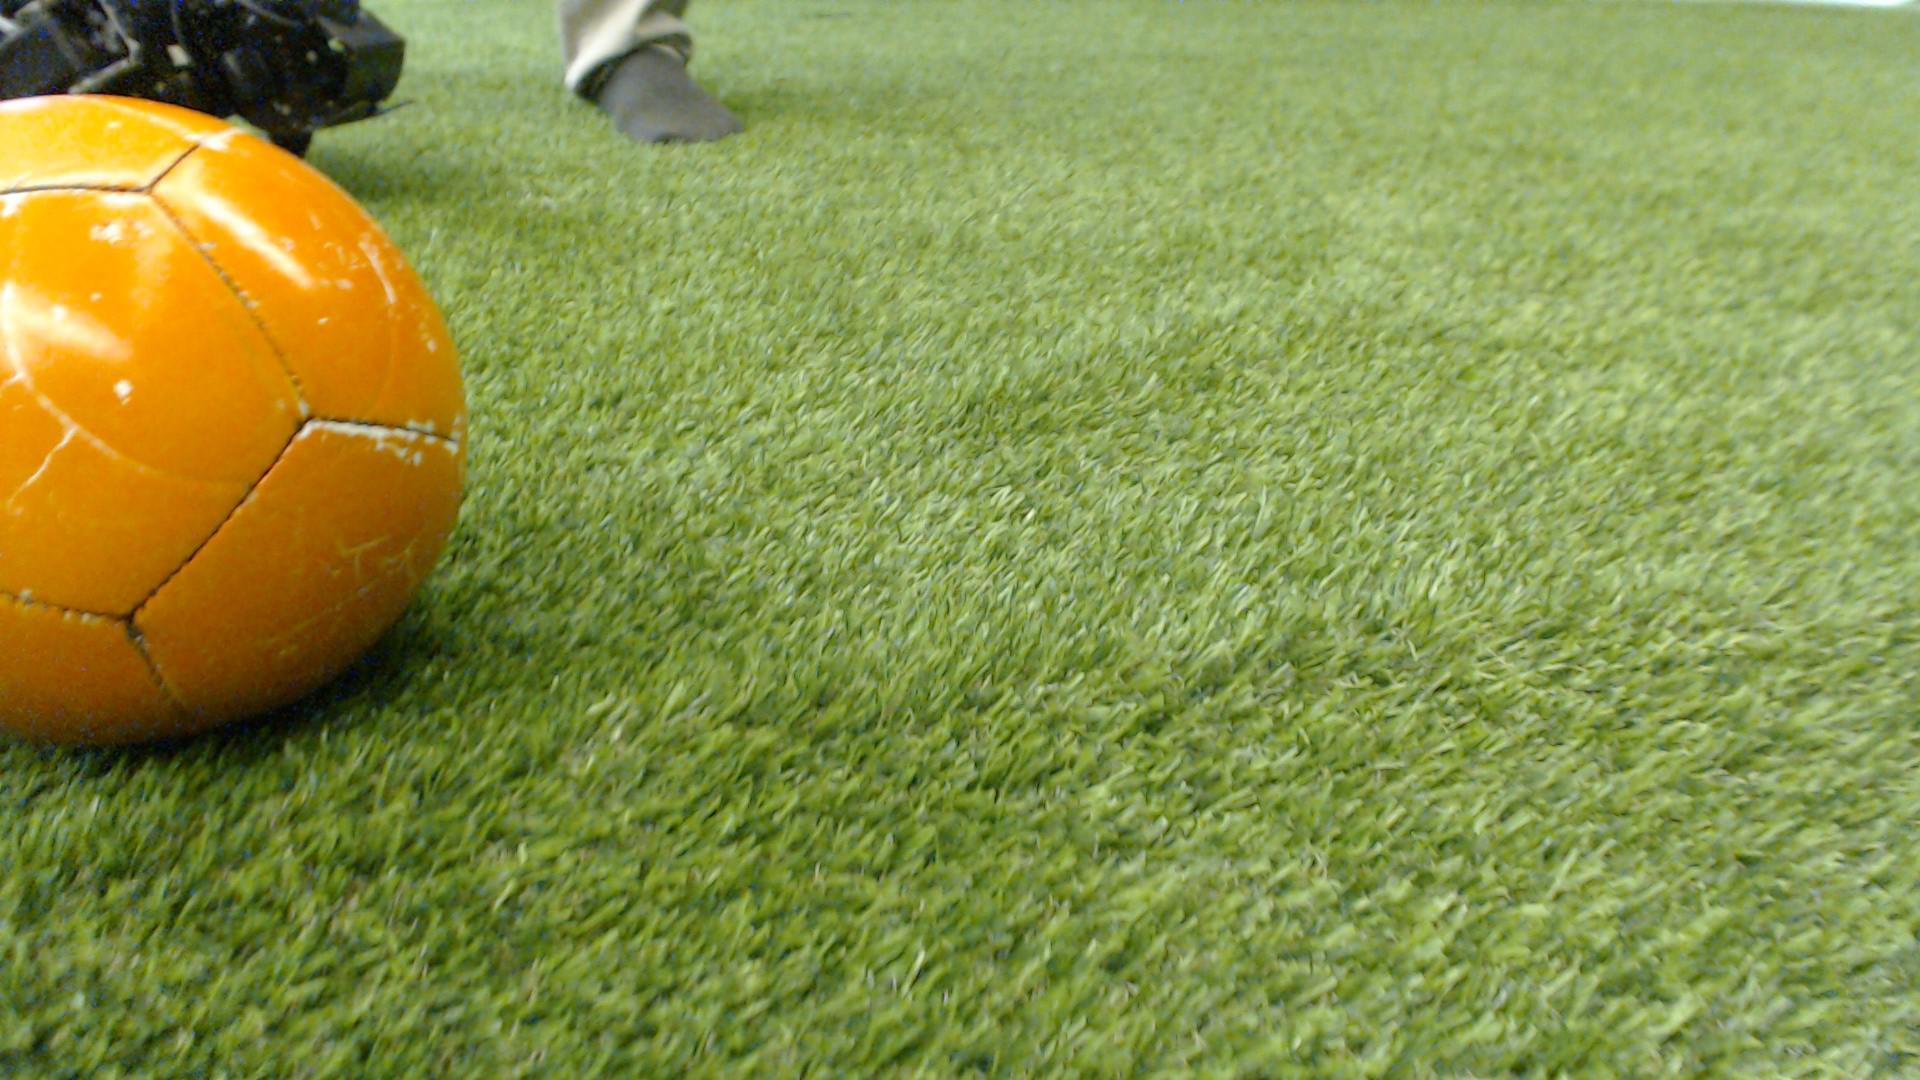bola: (0, 29, 502, 795)
